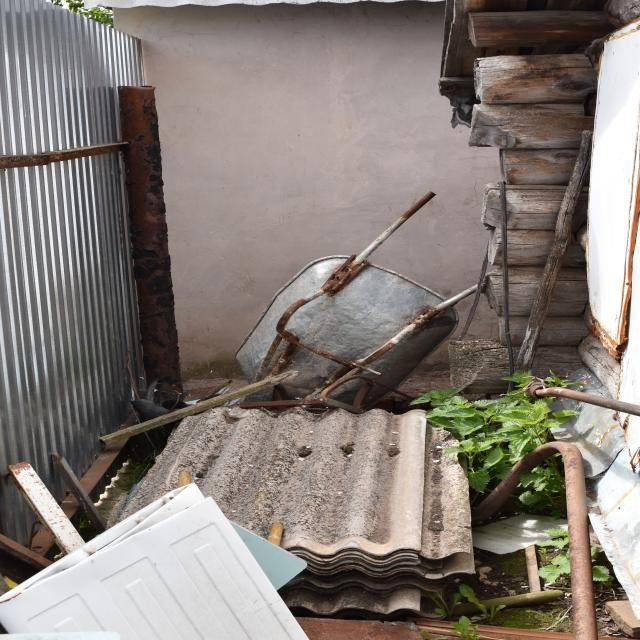entulho: (114, 404, 472, 616), (0, 140, 138, 482), (226, 255, 483, 407), (82, 482, 312, 637), (553, 19, 637, 380), (283, 528, 487, 632), (511, 436, 615, 640), (470, 57, 610, 154), (467, 0, 638, 57), (529, 375, 640, 423)
